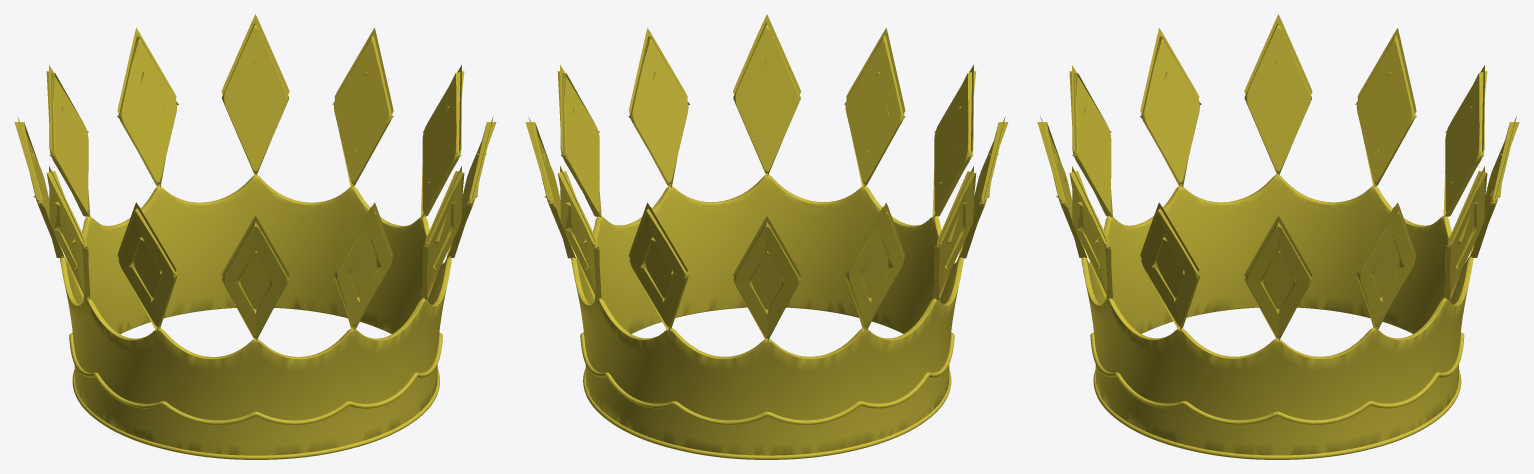
File: crown.glb
The picture shows the model from 3 angles, left to right: view 1: azimuth 30°, elevation 25°; view 2: azimuth 150°, elevation 25°; view 3: azimuth 270°, elevation 25°; orthographic projection.
Parts seen in each view (by area): view 1: Plane.003; view 2: Plane.003; view 3: Plane.003.
Boxes of the visible parts, left/top/right/bottom form: Plane.003: left=14, top=14, right=496, bottom=459; Plane.003: left=525, top=14, right=1008, bottom=459; Plane.003: left=1037, top=14, right=1519, bottom=459.
Size of the model in its own units: 6.89 by 4.23 by 6.89.
Materials: 1 (1 with a texture image).
